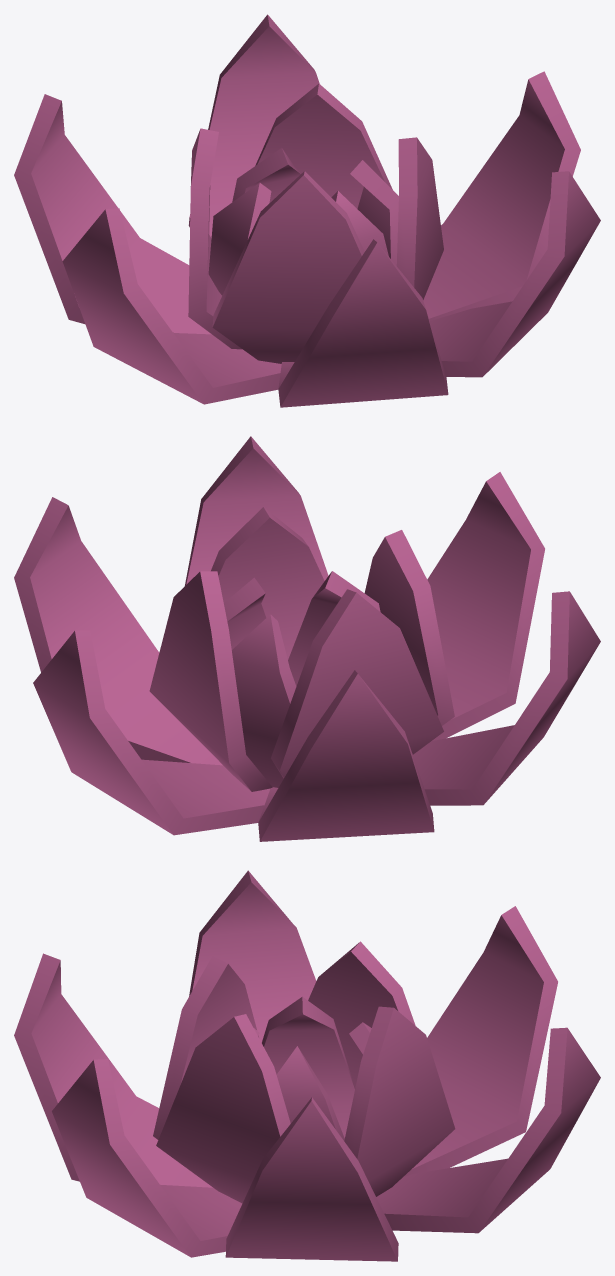
File: Lilypad_Flower.fbx
3 views of the same model, one above another, from view 1: azimuth 30°, elevation 25°; view 2: azimuth 150°, elevation 25°; view 3: azimuth 270°, elevation 25° (orthographic). The views are drawn at different scales.
Parts seen in each view (by area): view 1: Flower; view 2: Flower; view 3: Flower.
Part boxes in pixels (box(x1,y1,x2,y2)): Flower: box(14, 14, 600, 407); Flower: box(14, 436, 600, 841); Flower: box(14, 870, 600, 1261).
Size of the model in its own units: 47.31 by 20.69 by 47.44.
